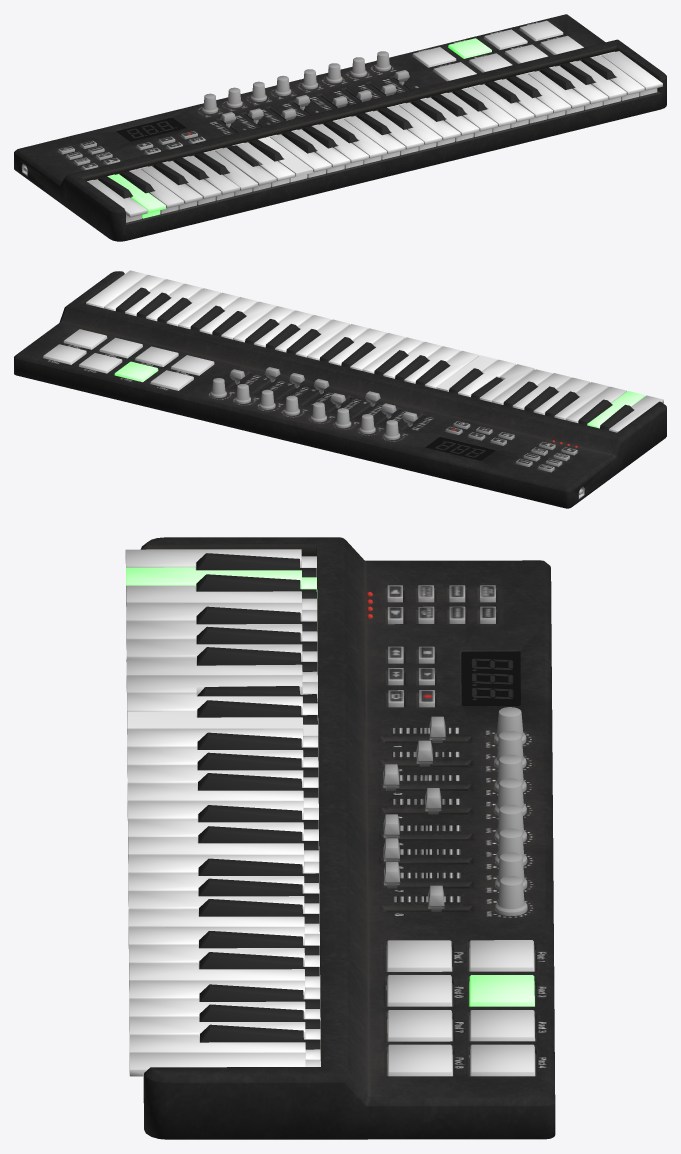
The model's file is piano-native.glb.
The picture shows the model from 3 angles, top to bottom: view 1: azimuth 30°, elevation 25°; view 2: azimuth 150°, elevation 25°; view 3: azimuth 270°, elevation 25°; orthographic projection. The views are drawn at different scales.
Visible parts, largest first — view 1: BODY.002, White_Key_C5.002, White_Key_D2.002, White_key_C2.002, White_key_C3.002, White_key_C4.002, White_key_F4.002, White_key_F2.002, White_key_F3.002, White_key_F1.002, White_Key_D4.002, White_Key_D3.002 (+26 smaller); view 2: BODY.002, White_Key_C5.002, White_key_C2.002, White_Key_D2.002, White_key_C3.002, White_key_C4.002, White_key_F3.002, White_key_F2.002, White_key_F4.002, White_key_F1.002, White_Key_D4.002, White_Key_D3.002 (+26 smaller); view 3: BODY.002, White_Key_E2.002, White_Key_C5.002, White_key_C2.002, White_Key_E3.002, White_Key_E1.002, White_Key_B2.002, White_Key_E4.002, White_Key_B3.002, White_Key_B4.002, White_Key_B1.002, White_Key_D1.002 (+47 smaller).
Boxes of the visible parts, bbox=[...] form: BODY.002: bbox=[14, 14, 666, 241]; White_Key_C5.002: bbox=[597, 51, 662, 96]; White_Key_D2.002: bbox=[232, 142, 295, 186]; White_key_C2.002: bbox=[211, 147, 276, 191]; White_key_C3.002: bbox=[339, 116, 405, 159]; White_key_C4.002: bbox=[468, 84, 534, 127]; White_key_F4.002: bbox=[524, 71, 589, 114]; White_key_F2.002: bbox=[266, 134, 331, 177]; White_key_F3.002: bbox=[395, 102, 460, 145]; White_key_F1.002: bbox=[136, 166, 202, 209]; White_Key_D4.002: bbox=[494, 79, 552, 123]; White_Key_D3.002: bbox=[365, 110, 423, 155]; BODY.002: bbox=[14, 271, 666, 508]; White_Key_C5.002: bbox=[86, 270, 147, 308]; White_key_C2.002: bbox=[479, 364, 534, 402]; White_Key_D2.002: bbox=[458, 359, 515, 397]; White_key_C3.002: bbox=[350, 333, 405, 370]; White_key_C4.002: bbox=[221, 301, 276, 339]; White_key_F3.002: bbox=[295, 319, 349, 357]; White_key_F2.002: bbox=[425, 350, 479, 388]; White_key_F4.002: bbox=[166, 288, 220, 326]; White_key_F1.002: bbox=[554, 382, 608, 419]; White_Key_D4.002: bbox=[199, 297, 257, 334]; White_Key_D3.002: bbox=[328, 328, 386, 365]; BODY.002: bbox=[140, 537, 555, 1139]; White_Key_E2.002: bbox=[127, 711, 318, 736]; White_Key_C5.002: bbox=[129, 1052, 320, 1076]; White_key_C2.002: bbox=[126, 675, 317, 702]; White_Key_E3.002: bbox=[128, 837, 319, 862]; White_Key_E1.002: bbox=[126, 585, 317, 609]; White_Key_B2.002: bbox=[127, 783, 318, 808]; White_Key_E4.002: bbox=[129, 963, 320, 987]; White_Key_B3.002: bbox=[128, 909, 319, 933]; White_Key_B4.002: bbox=[129, 1035, 320, 1059]; White_Key_B1.002: bbox=[126, 658, 317, 682]; White_Key_D1.002: bbox=[126, 567, 317, 598].
Bounding box in the file's own units: 0.8366 × 0.0522 × 0.2796.
Materials: 16 (1 with a texture image).
